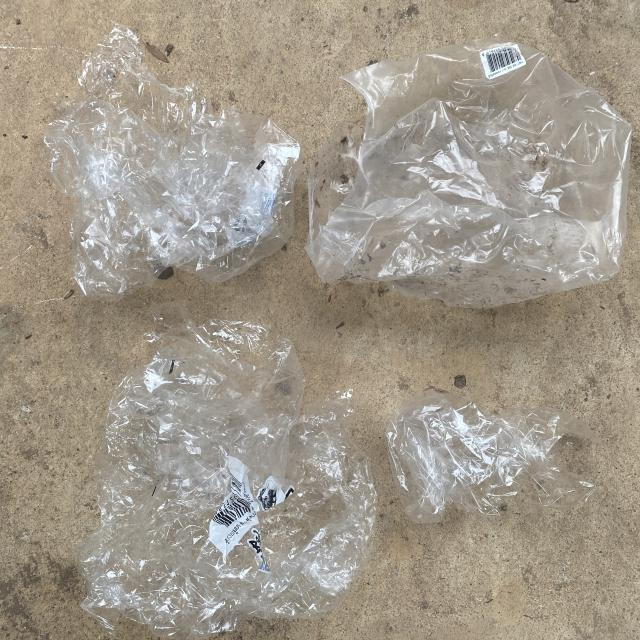plastik: (79, 303, 376, 640), (306, 40, 632, 308), (45, 27, 302, 299), (387, 389, 600, 522)
